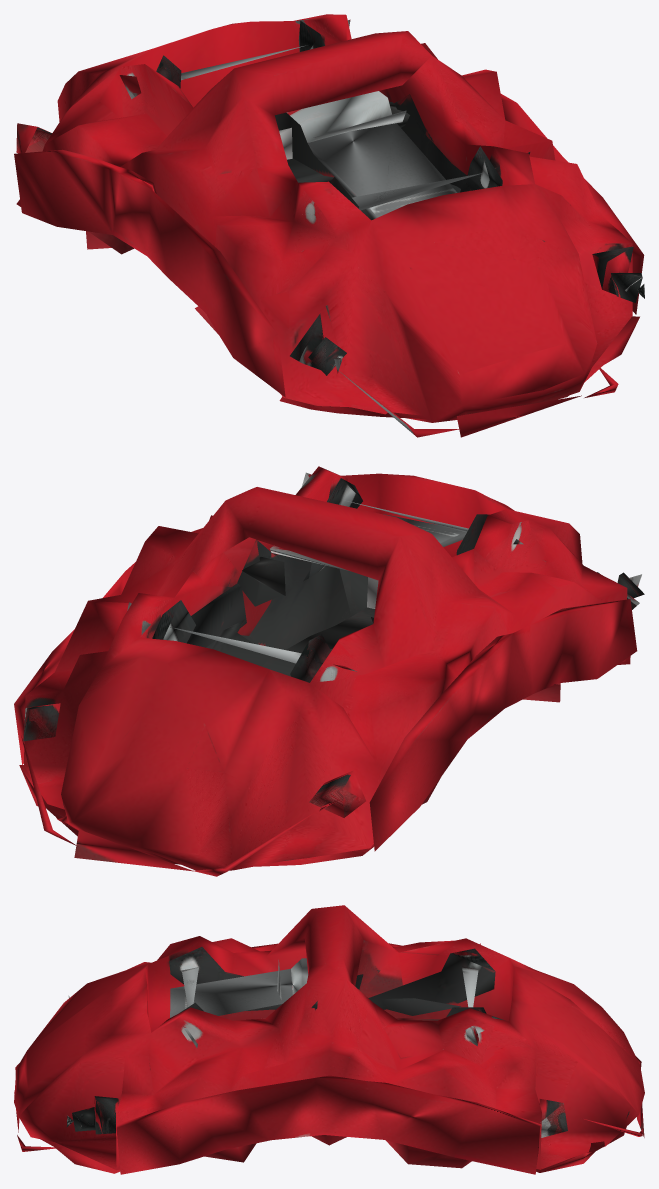
Rendered from brake_caliper_red.obj.
3 renders of one model, top to bottom at view 1: azimuth 30°, elevation 25°; view 2: azimuth 150°, elevation 25°; view 3: azimuth 270°, elevation 25°, orthographic. The views are drawn at different scales.
Visible parts, largest first — view 1: part; view 2: part; view 3: part.
Part boxes in pixels (left/top/right/bottom): part: left=14, top=14, right=644, bottom=437; part: left=14, top=466, right=644, bottom=876; part: left=14, top=905, right=644, bottom=1174.
Size of the model in its own units: 0.1512 by 0.0883 by 0.2787.
